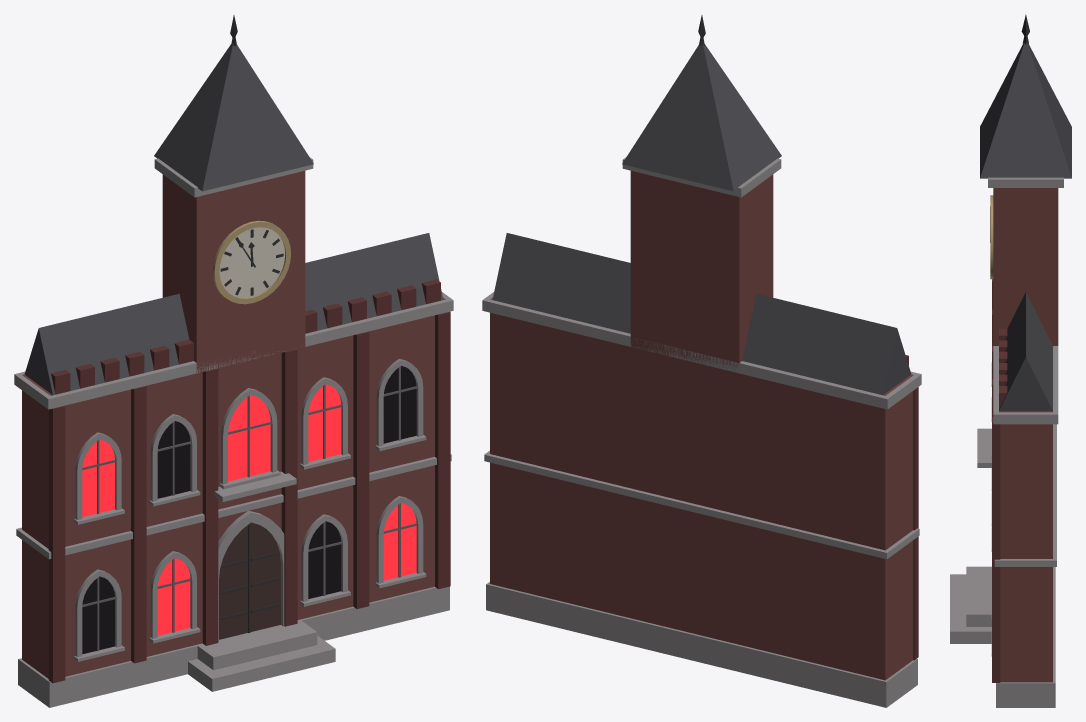
Rendered from mansion_facade.glb.
3 views of the same model, side by side, from view 1: azimuth 30°, elevation 25°; view 2: azimuth 150°, elevation 25°; view 3: azimuth 270°, elevation 25° (orthographic). The views are drawn at different scales.
Parts seen in each view (by area): view 1: MansionFacade; view 2: MansionFacade; view 3: MansionFacade.
Part boxes in pixels (x1,y1,x2,y2): MansionFacade: [14, 15, 453, 707]; MansionFacade: [482, 15, 921, 707]; MansionFacade: [950, 14, 1071, 707].
Bounding box in the file's own units: 16.4 × 24.5 × 4.5.
